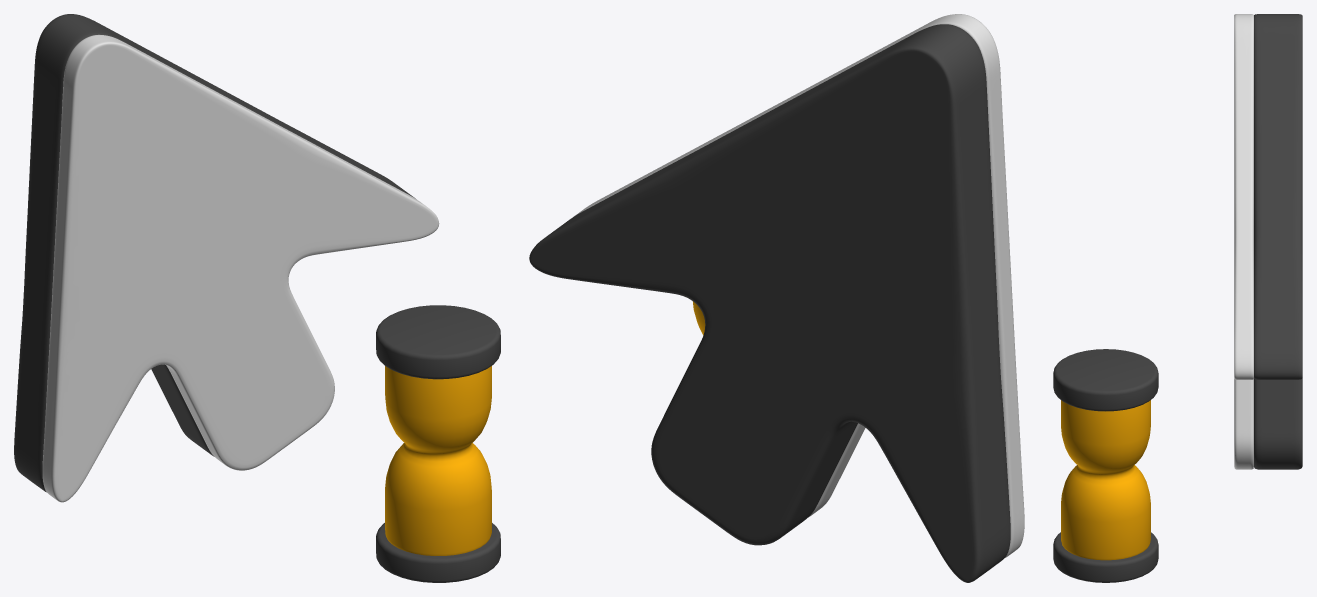
File: click-waiting-animated-3d-icon-1335185823135.glb
The picture shows the model from 3 angles, left to right: view 1: azimuth 30°, elevation 25°; view 2: azimuth 150°, elevation 25°; view 3: azimuth 270°, elevation 25°; orthographic projection. The views are drawn at different scales.
Visible parts, largest first — view 1: Cursor 1.003, Timer 1, Cursor 2.003, Timer 2; view 2: Cursor 2.003, Cursor 1.003; view 3: Cursor 2.003, Timer 1, Cursor 1.003, Timer 2.
Part boxes in pixels (x1,y1,x2,y2): Cursor 1.003: [42, 34, 439, 502]; Timer 1: [385, 366, 491, 555]; Cursor 2.003: [14, 14, 415, 492]; Timer 2: [376, 305, 500, 582]; Cursor 2.003: [529, 24, 1010, 582]; Cursor 1.003: [574, 14, 1024, 557]; Cursor 2.003: [1254, 14, 1302, 469]; Timer 1: [1061, 400, 1150, 560]; Cursor 1.003: [1234, 14, 1253, 469]; Timer 2: [1053, 349, 1158, 582].
Bounding box in the file's own units: 1.15 × 1.49 × 0.7648.
